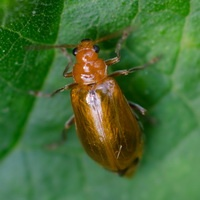insect: (43, 28, 157, 176)
